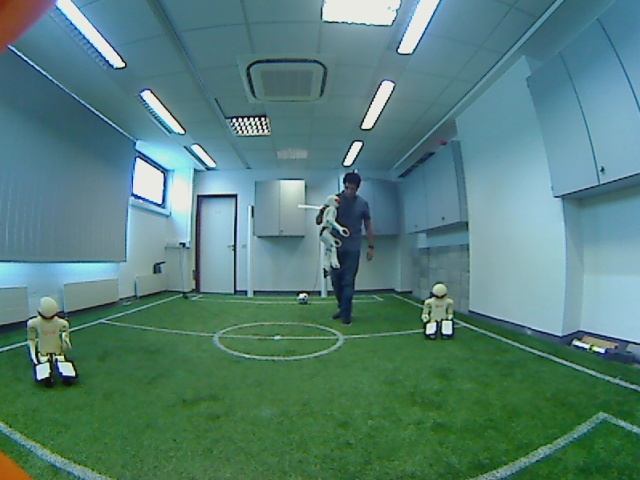ball: (293, 288, 314, 309)
robot: (19, 291, 88, 387), (308, 193, 350, 279), (414, 280, 462, 346)
